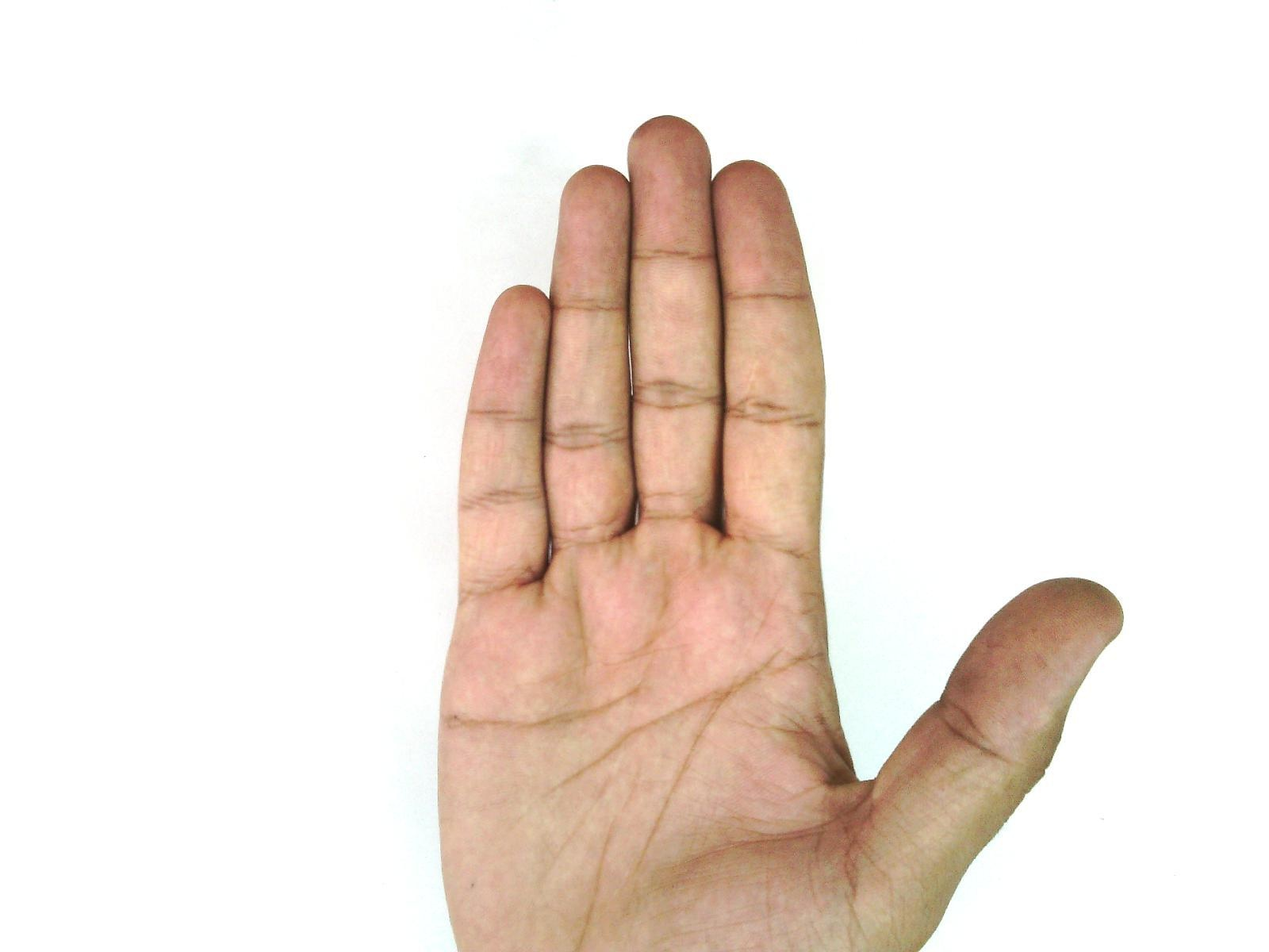open_palm: (432, 114, 1126, 951)
